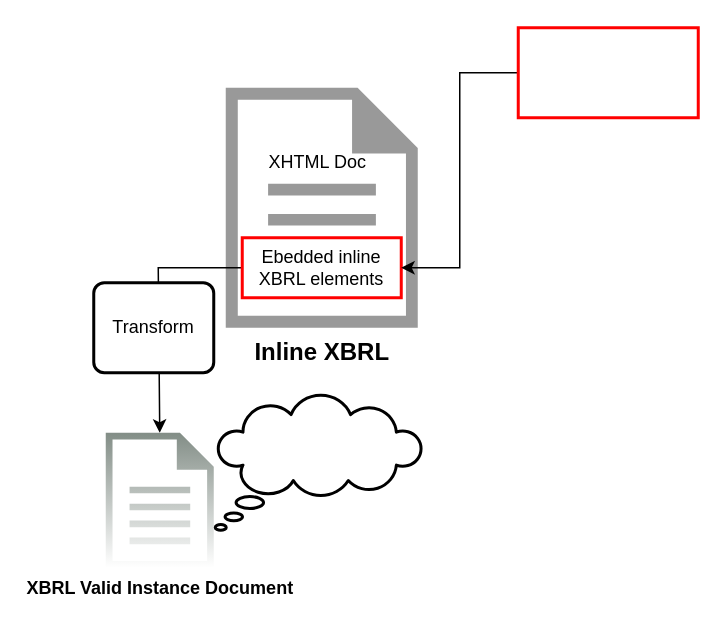
Some shapes in this 725 by 624 pixel diagram are drawn without their labels. The shapes that lost their labels are listed below. From the top down, each one's centre as x and y in pixels, then its label:
At [607,72]: "Inline XBRL Specifications".
At [318,462]: "Does not Need to physically exist".
